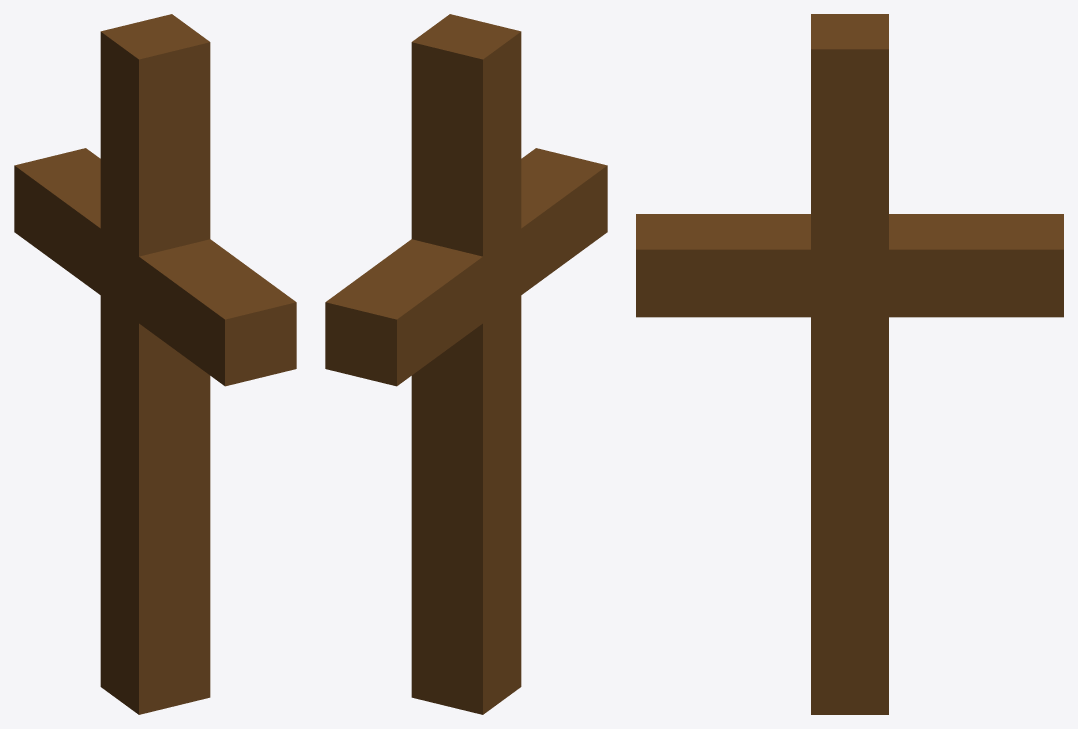
Rendered from WoodenCross2.fbx.
3 renders of one model, left to right at view 1: azimuth 30°, elevation 25°; view 2: azimuth 150°, elevation 25°; view 3: azimuth 270°, elevation 25°, orthographic.
Parts seen in each view (by area): view 1: Cube.018; view 2: Cube.018; view 3: Cube.018.
Part boxes in pixels (<box>): Cube.018: <box>14,14,296,714</box>; Cube.018: <box>325,14,607,714</box>; Cube.018: <box>636,14,1063,714</box>.
Size of the model in its own units: 9.19 by 80.55 by 46.93.
